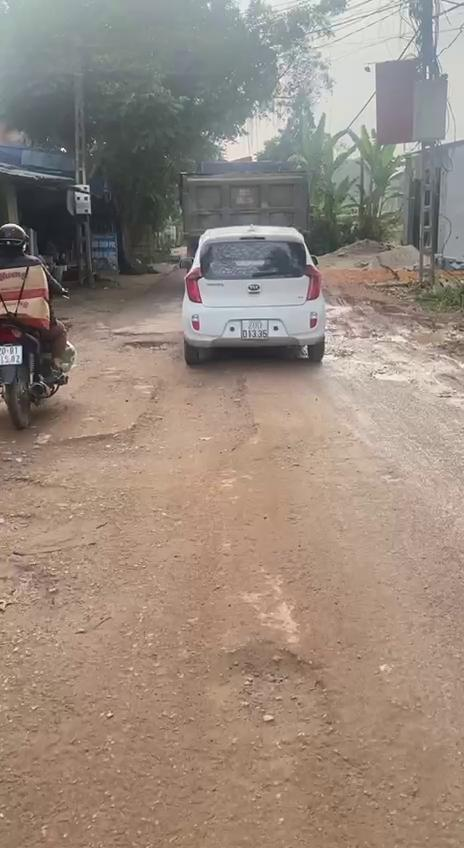pothole: (44, 412, 254, 462), (222, 645, 338, 733), (123, 336, 179, 357)
